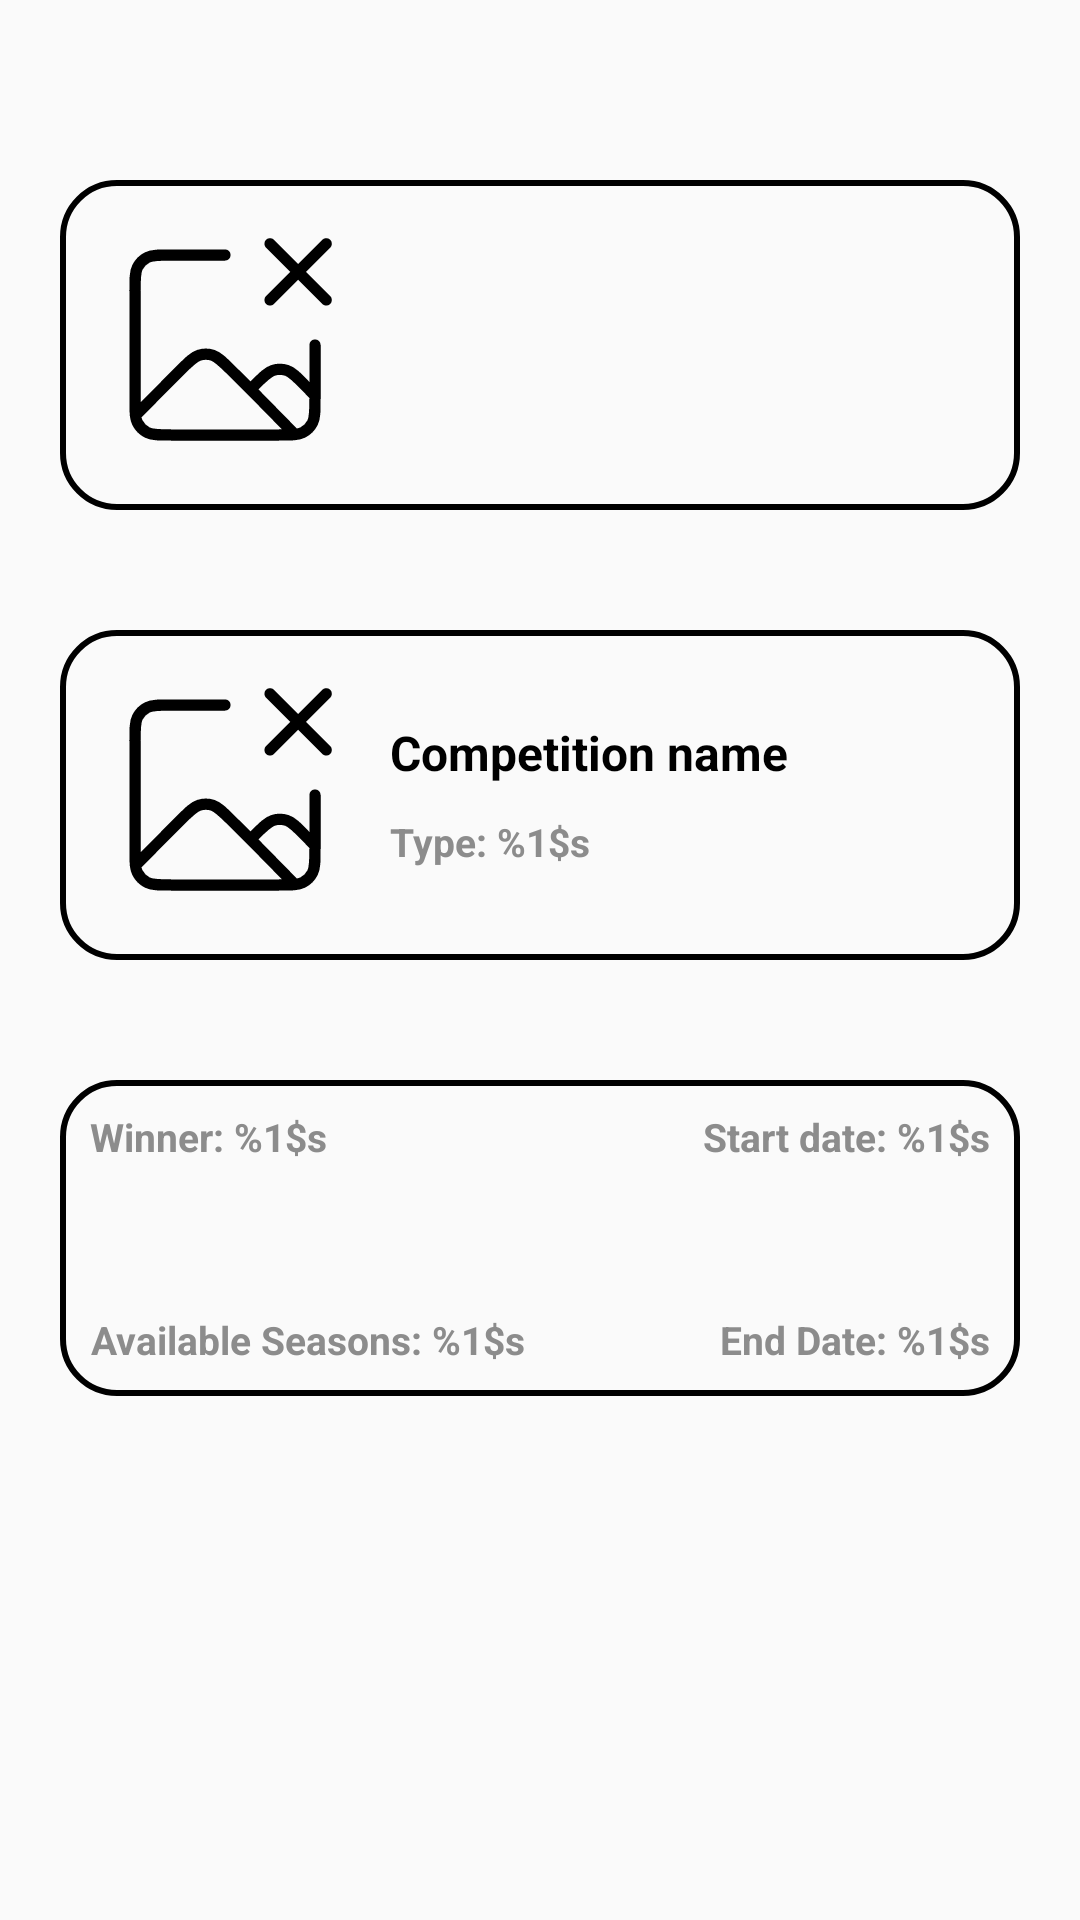

Icon click points for this 1080×1920 phone screenshot, format (x,y):
place holder: (230,339), (230,789)
